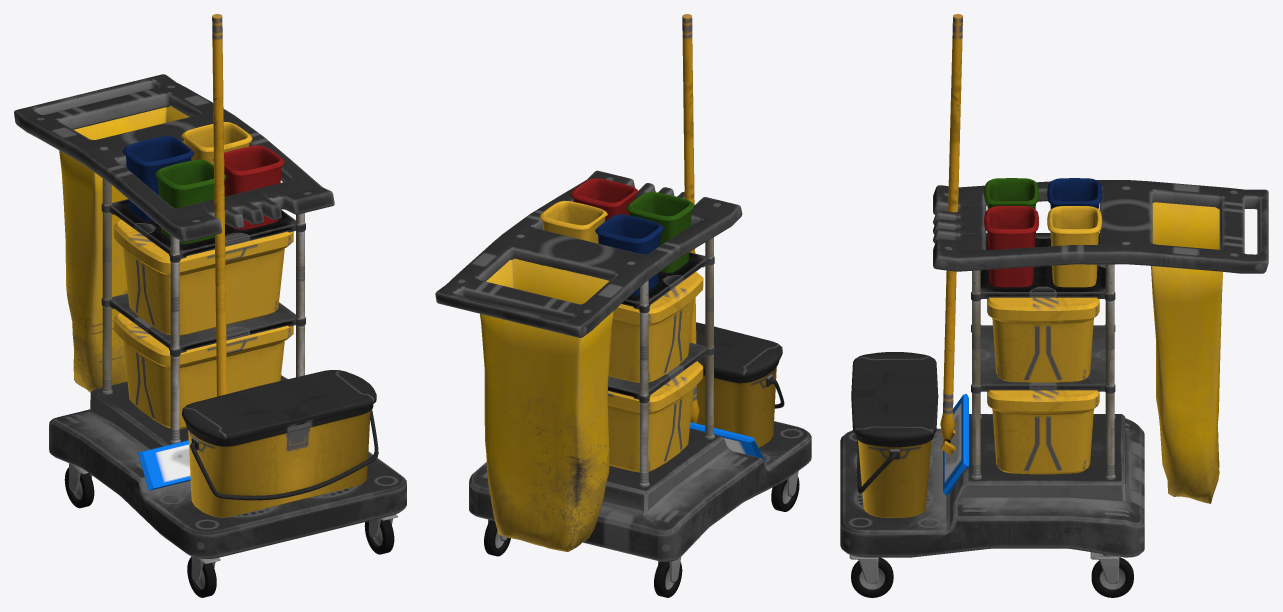
The model's file is CleaningCart.fbx.
3 renders of one model, left to right at view 1: azimuth 30°, elevation 25°; view 2: azimuth 150°, elevation 25°; view 3: azimuth 270°, elevation 25°, orthographic. The views are drawn at different scales.
Parts seen in each view (by area): view 1: CT_CartBody; view 2: CT_CartBody; view 3: CT_CartBody.
Part boxes in pixels (left/top/right/bottom): CT_CartBody: left=14, top=14, right=406, bottom=597; CT_CartBody: left=435, top=14, right=811, bottom=597; CT_CartBody: left=840, top=14, right=1268, bottom=597.
Size of the model in its own units: 333 by 775 by 575.
Materials: 1 (1 with a texture image).
